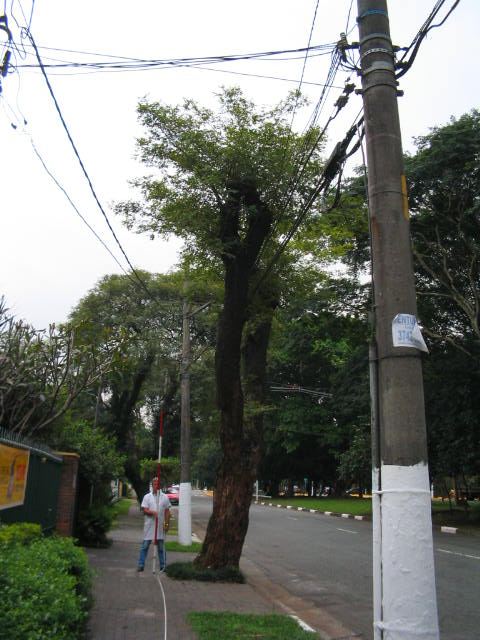crown: (108, 80, 352, 272)
stem: (186, 441, 269, 572)
stick: (146, 411, 169, 573)
tree: (104, 77, 354, 576)
